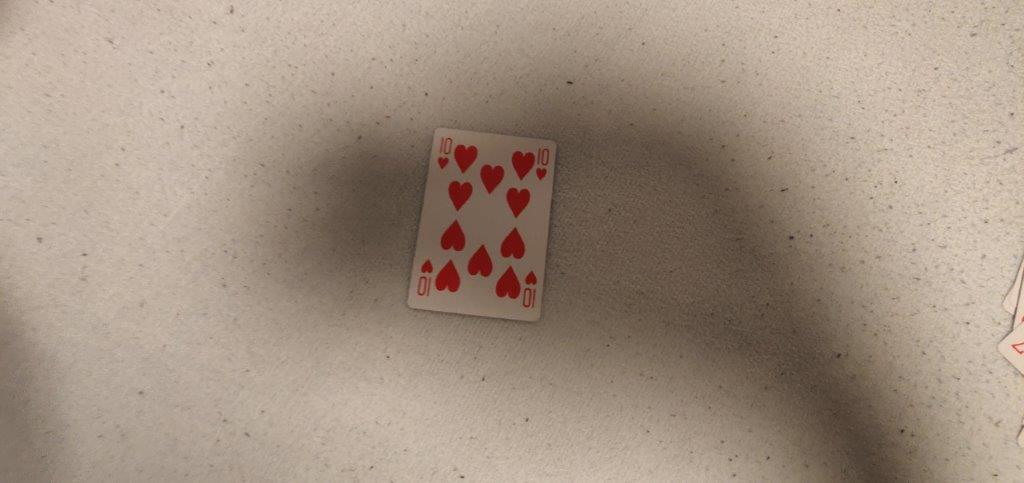10H: (435, 132, 455, 174), (534, 145, 551, 182)
